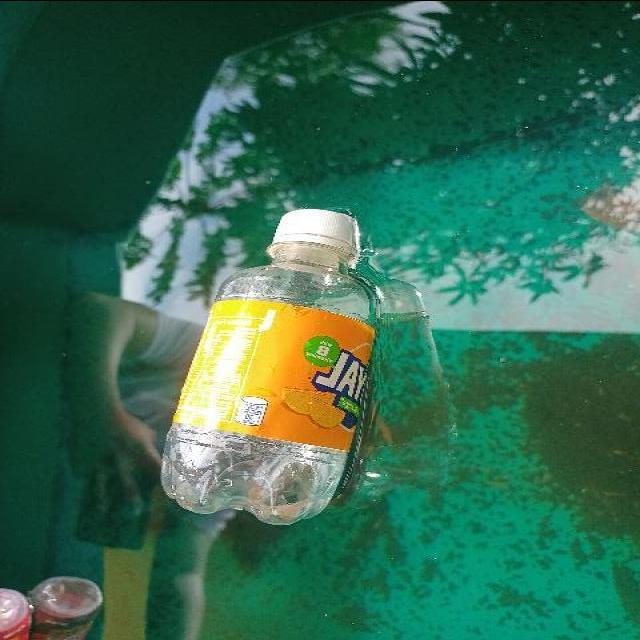Bottle: (152, 200, 386, 534)
